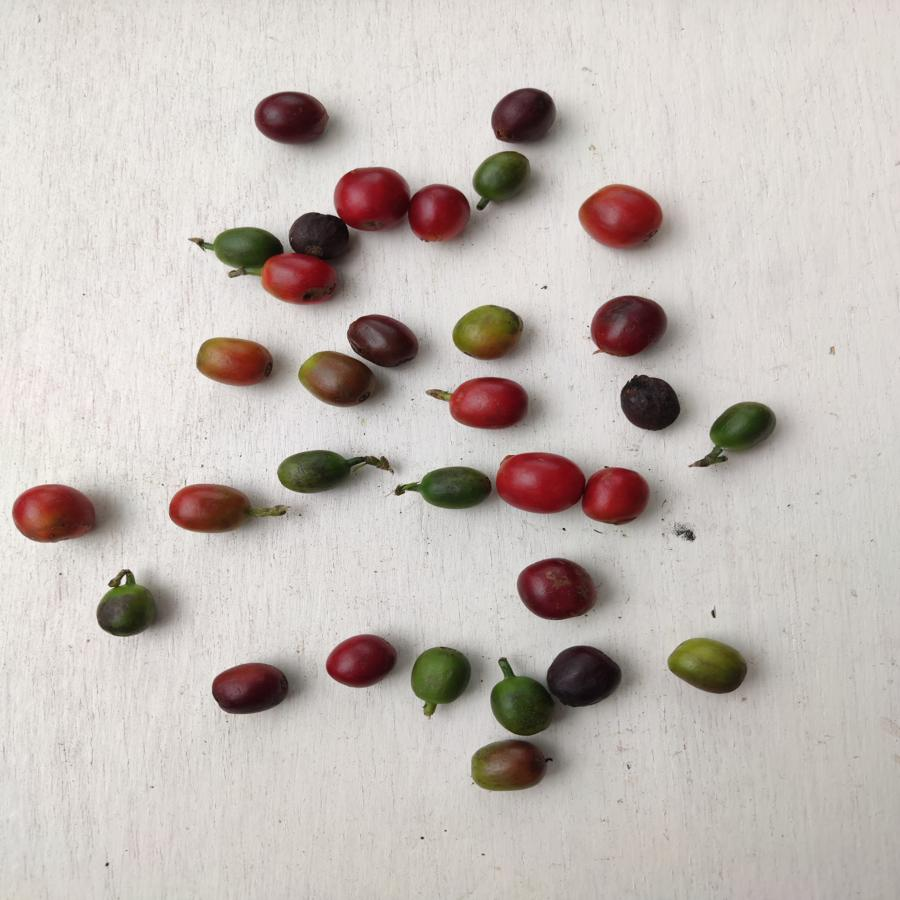Inmaduro: (406, 644, 472, 707), (492, 672, 554, 737), (707, 402, 780, 455), (97, 584, 164, 640), (472, 148, 535, 206), (418, 464, 494, 511), (278, 447, 352, 494), (211, 222, 264, 276)
Maduro: (577, 183, 664, 252), (496, 450, 585, 513), (333, 165, 409, 236), (11, 482, 98, 542), (259, 252, 341, 311), (581, 463, 652, 528), (447, 376, 528, 428), (408, 183, 474, 242)
Pinton: (667, 631, 752, 697), (294, 349, 376, 412), (164, 484, 254, 538), (192, 331, 273, 388), (452, 302, 522, 362), (470, 740, 548, 791)
Sobremaduro: (515, 557, 597, 625), (544, 644, 624, 709), (588, 295, 669, 359), (209, 661, 288, 719), (249, 90, 335, 143), (615, 370, 683, 435), (344, 313, 421, 369), (326, 630, 400, 686), (490, 88, 561, 144), (288, 209, 349, 261)
